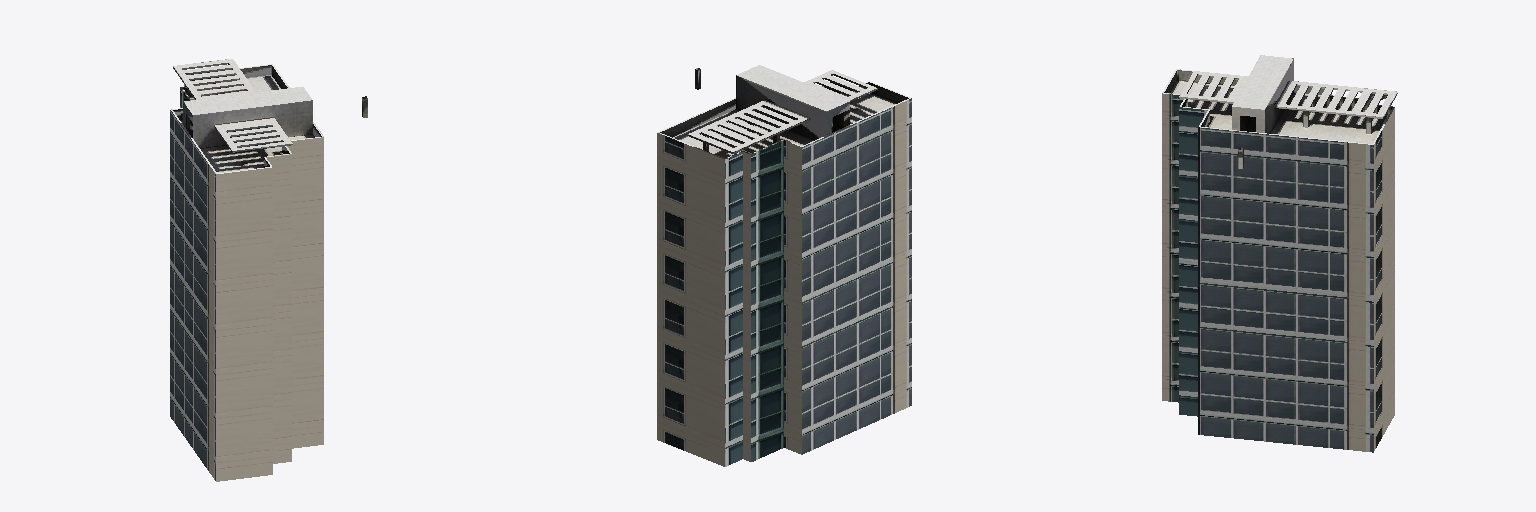
The picture shows the model from 3 angles: view 1: azimuth 30°, elevation 25°; view 2: azimuth 150°, elevation 25°; view 3: azimuth 270°, elevation 25°; orthographic projection.
Visible parts, largest first — view 1: JZ_JX_625; view 2: JZ_JX_625; view 3: JZ_JX_625.
Boxes of the visible parts, x1=… form: JZ_JX_625: x1=170, y1=59, x2=367, y2=481; JZ_JX_625: x1=657, y1=65, x2=911, y2=466; JZ_JX_625: x1=1162, y1=55, x2=1397, y2=452.
Size of the model in its own units: 1492 by 2564 by 1658.
Materials: 2 (2 with a texture image).